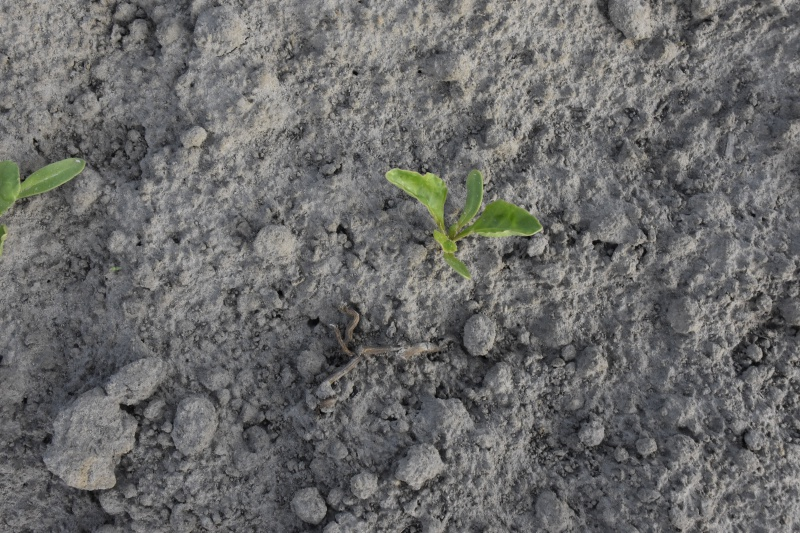sugar beet: (385, 163, 545, 282), (1, 151, 92, 230)
